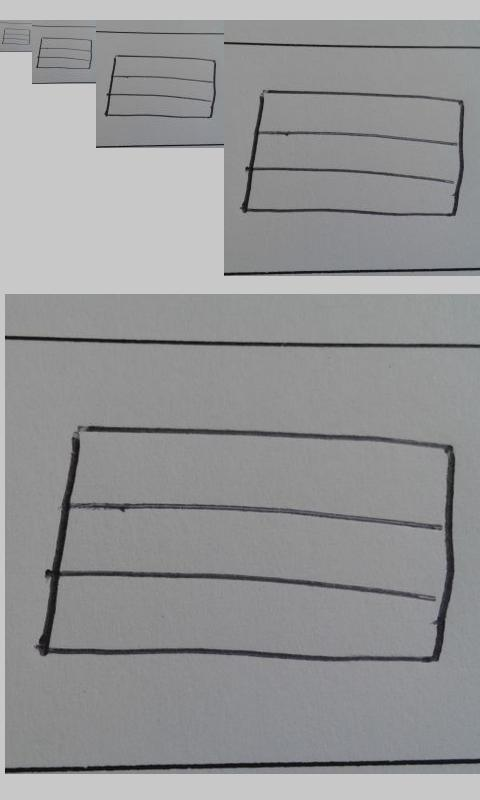list_view: (37, 422, 457, 666), (240, 86, 467, 219), (105, 54, 216, 119), (36, 37, 93, 70), (2, 27, 31, 45)
